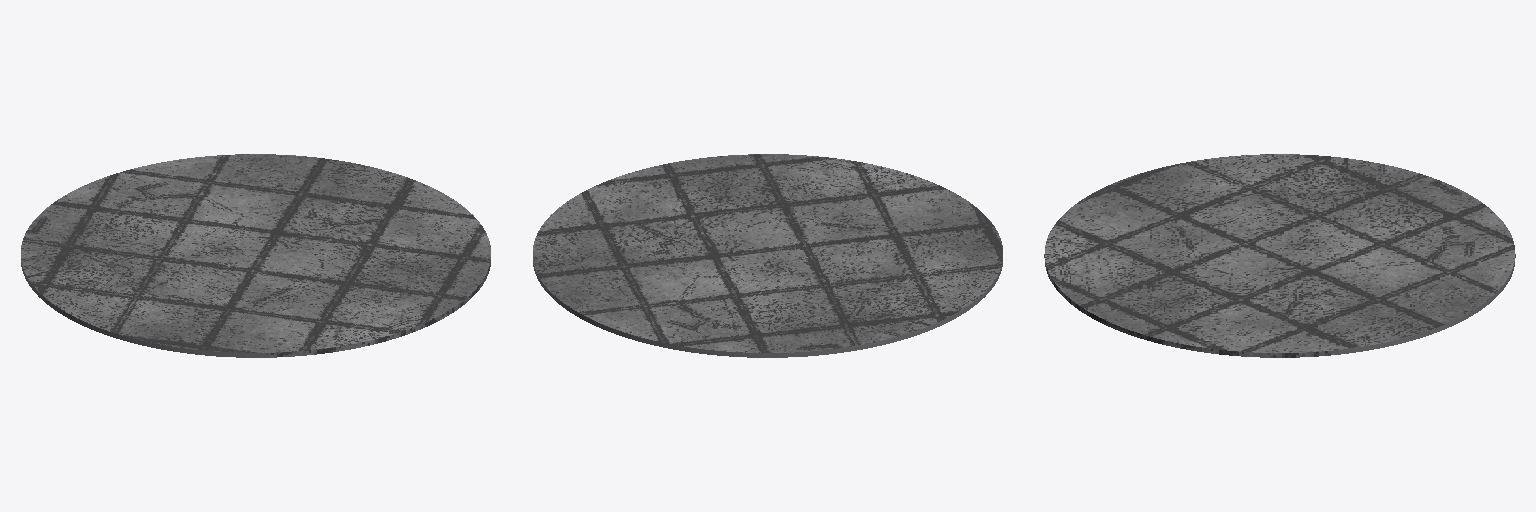
3 renders of one model, left to right at view 1: azimuth 30°, elevation 25°; view 2: azimuth 150°, elevation 25°; view 3: azimuth 270°, elevation 25°, orthographic.
Visible parts, largest first — view 1: 1_low; view 2: 1_low; view 3: 1_low.
Boxes of the visible parts, <box> form: 1_low: <box>21,154,490,357</box>; 1_low: <box>533,154,1002,357</box>; 1_low: <box>1044,154,1515,357</box>.
Bounding box in the file's own units: 293 × 3.27 × 293.
Materials: 1 (1 with a texture image).